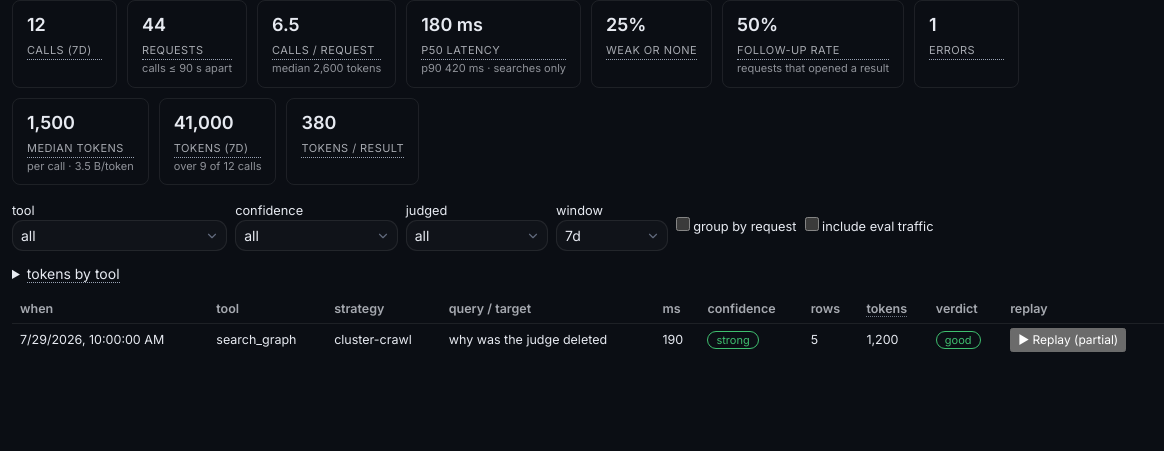
Test: LiveTraces › breaks tokens down by tool, collapsed by default
Click the heading "tokens by tool" at [73, 274], box [27,265,120,283]
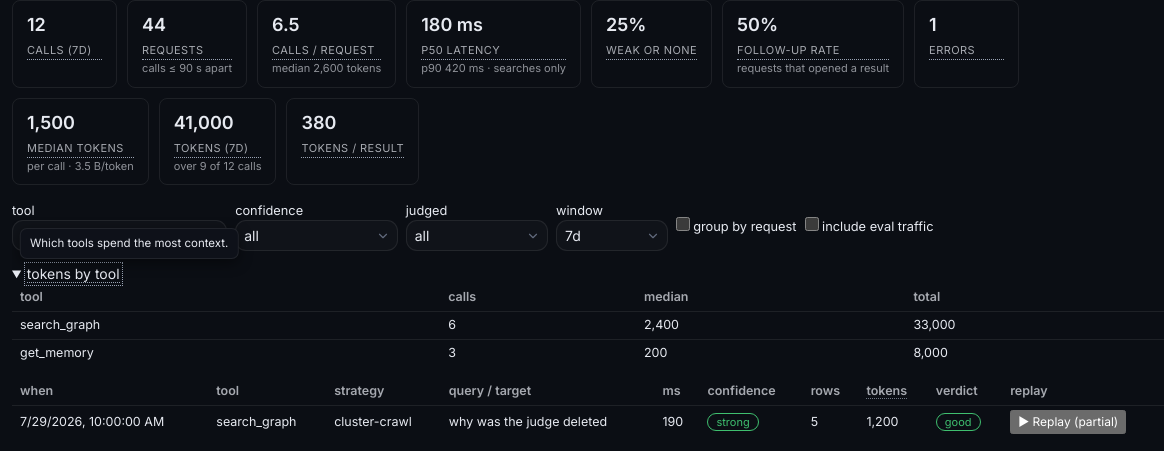
Check: the text "search_graph" in the row of "2,400" is shown, box [20,317,100,332]
Check: the text "33,000" is shown, box [905,311,1163,339]
Check: the text "8,000" is shown, box [905,339,1163,366]
